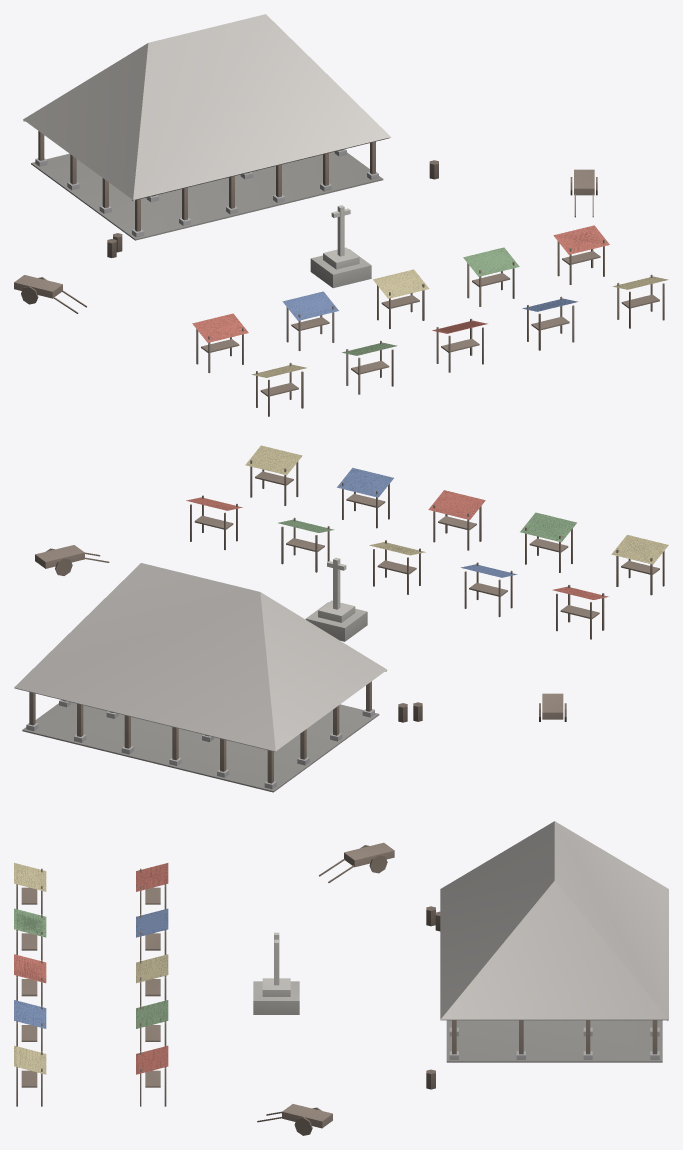
Rendered from market_2.glb.
3 views of the same model, one above another, from view 1: azimuth 30°, elevation 25°; view 2: azimuth 150°, elevation 25°; view 3: azimuth 270°, elevation 25° (orthographic). The views are drawn at different scales.
Parts seen in each view (by area): view 1: market_2; view 2: market_2; view 3: market_2.
Boxes of the visible parts, <box> form: market_2: <box>14,14,668,416</box>; market_2: <box>14,445,668,792</box>; market_2: <box>14,821,668,1135</box>.
Bounding box in the file's own units: 42.71 × 11.13 × 42.4.
